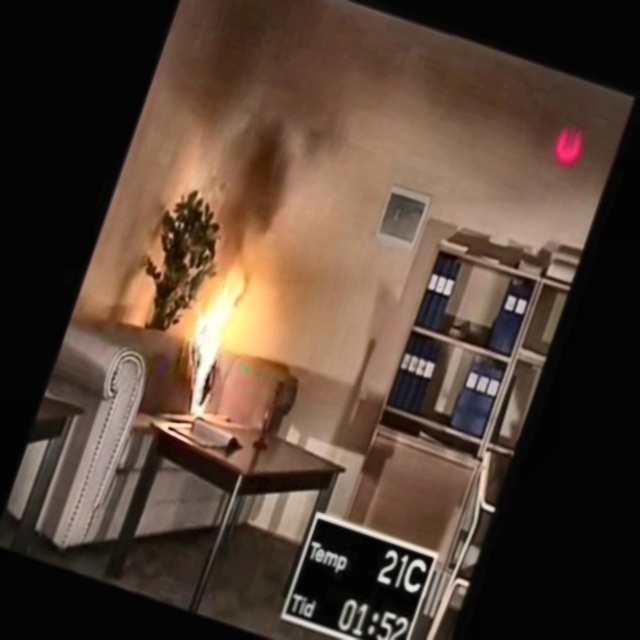fire: (180, 273, 249, 378)
